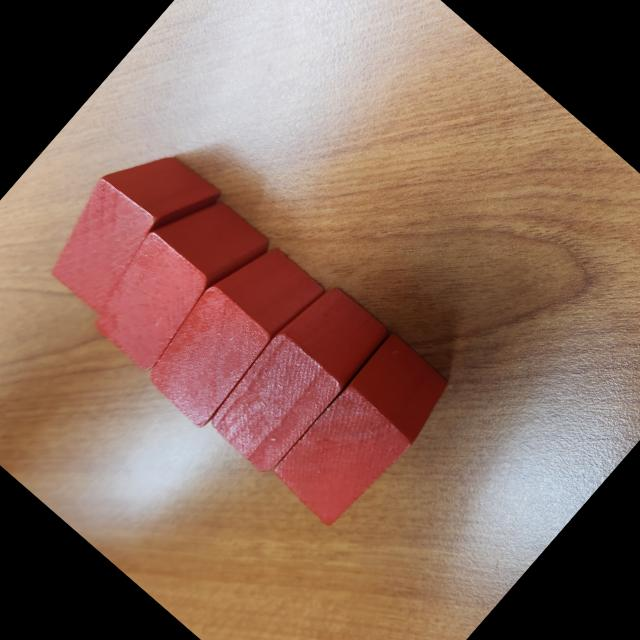red: (77, 178, 274, 382), (265, 330, 460, 535), (30, 125, 225, 328), (200, 274, 394, 478), (134, 229, 328, 433)
